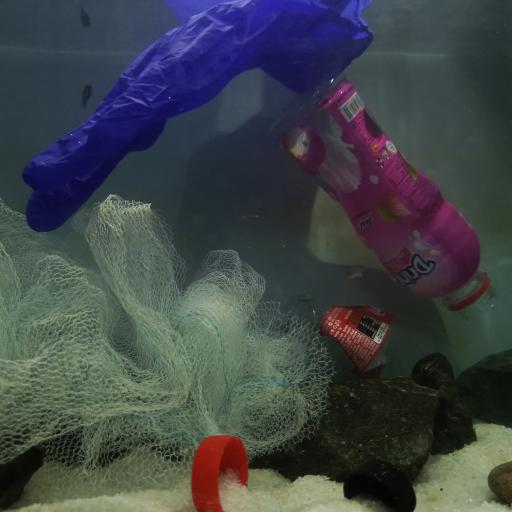bottle_cap: (191, 433, 249, 512), (343, 457, 417, 512)
glove: (20, 0, 376, 234)
net: (0, 192, 338, 490)
plastic_bottle: (266, 68, 501, 320), (279, 293, 420, 373)
